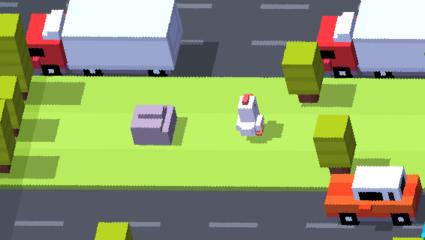hen: (235, 94, 264, 137)
obstacle: (63, 0, 171, 67), (327, 167, 422, 227), (357, 3, 424, 77), (0, 12, 31, 97), (314, 114, 355, 173), (317, 13, 353, 78), (282, 42, 320, 103), (27, 10, 65, 65), (130, 105, 178, 146), (0, 76, 24, 127), (0, 102, 17, 173), (33, 70, 174, 77), (97, 223, 136, 240)
